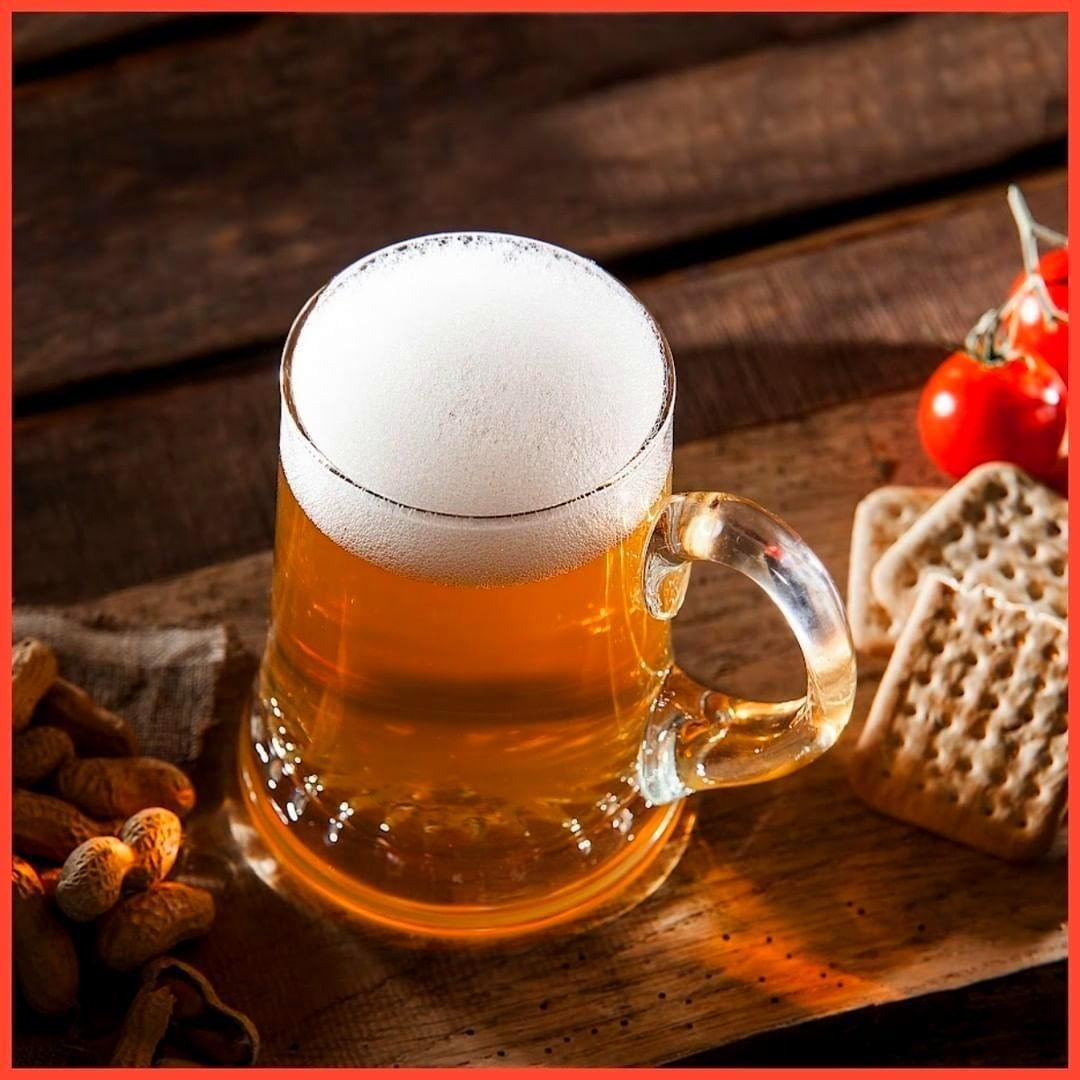glass-mug: (218, 216, 868, 976)
